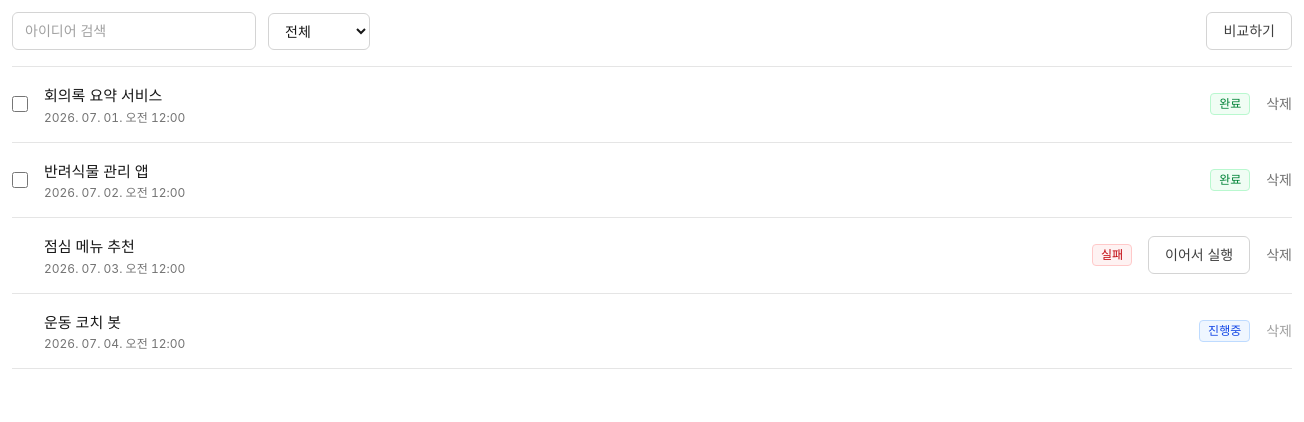
RunList 삭제 › 409면 실행 중이라 지울 수 없다는 이유를 보여주고 목록에 남긴다
The image size is (1304, 422).
Expected: the link "회의록 요약 서비스" is shown, [44, 86, 162, 105]
Click the button "삭제" in the row of "점심 메뉴 추천" at coordinates (1279, 255), box [1266, 245, 1292, 265]
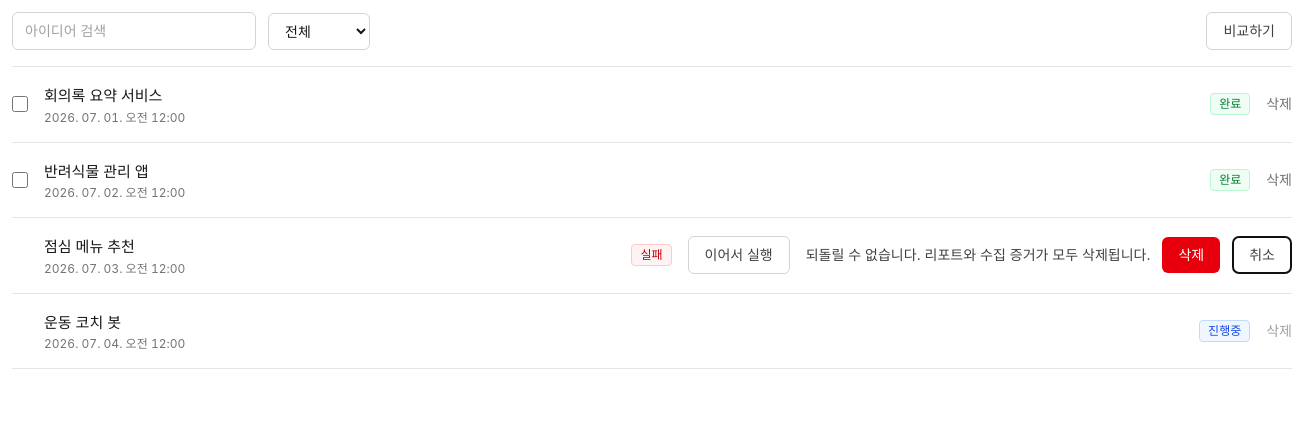
Click the button "삭제" next to "되돌릴 수 없습니다. 리포트와 수집 증거가 모두 삭제됩니다." at coordinates (1191, 255), box [1162, 237, 1220, 273]
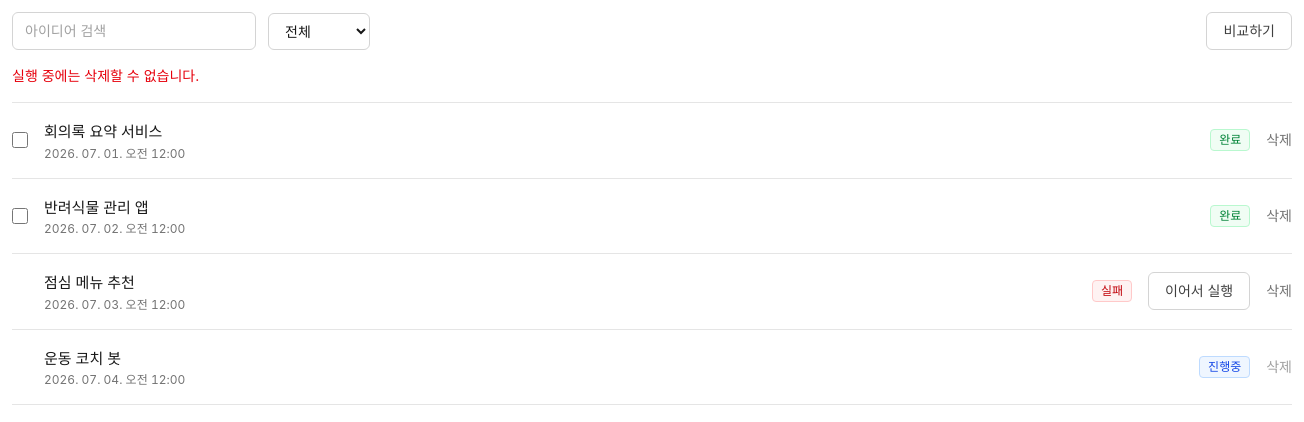
Expected: the link "점심 메뉴 추천" is shown, [44, 273, 135, 292]
Result: the message shows "실행 중" at [12, 67, 199, 84]
